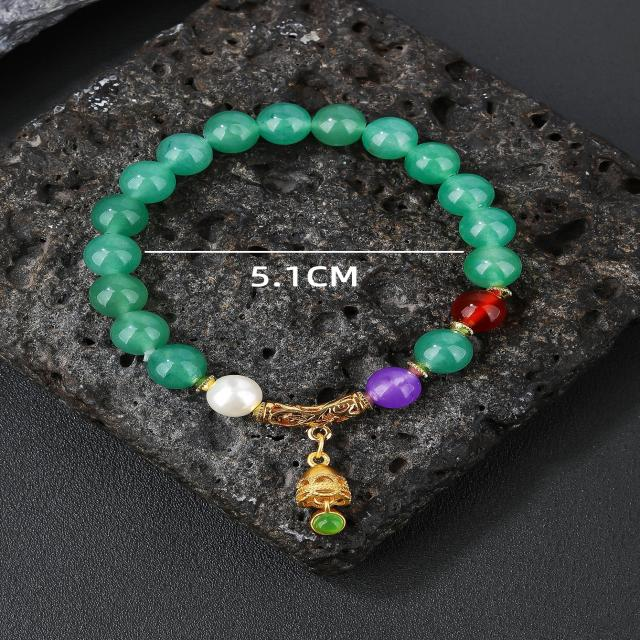bracelet: (29, 53, 571, 571)
